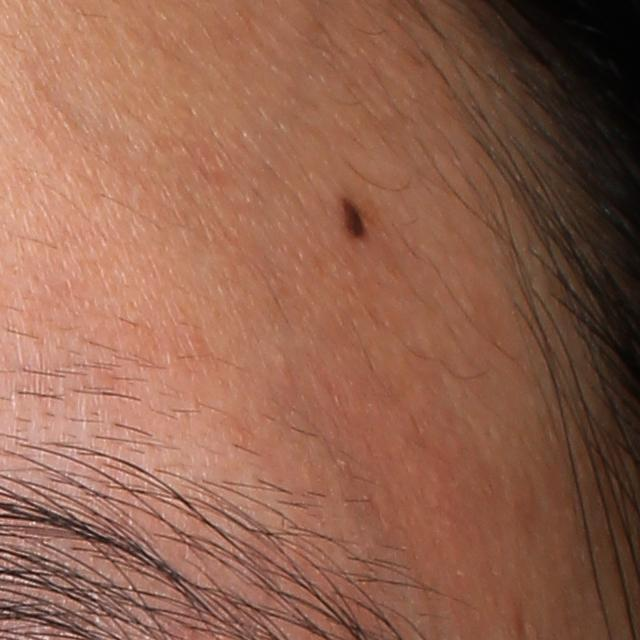nevus: (341, 194, 371, 242)
